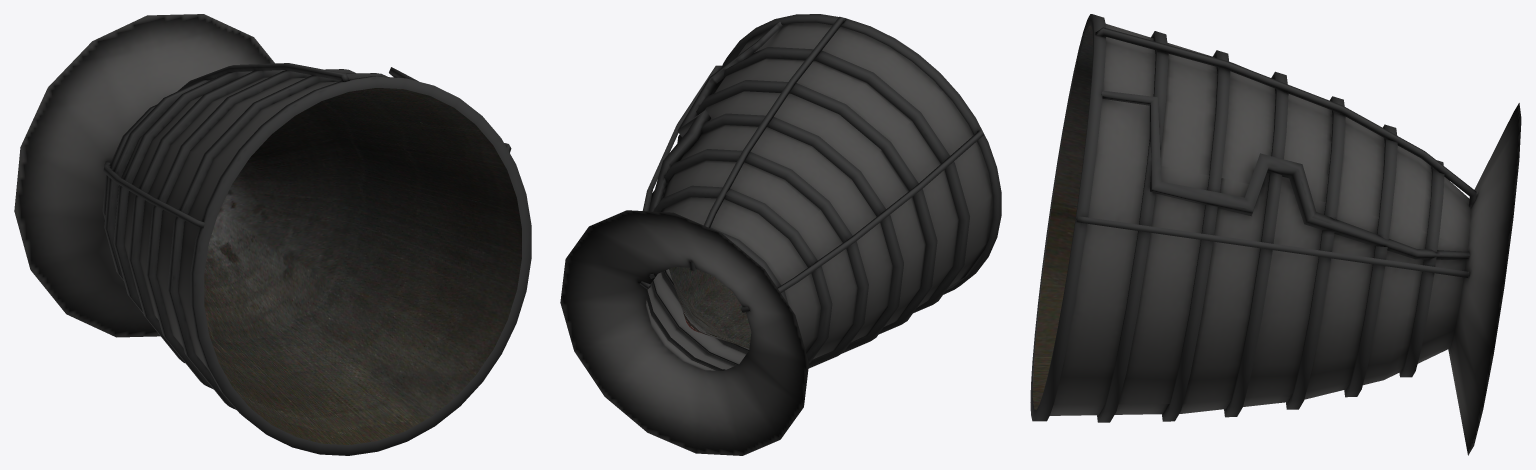
File: mainEngine.fbx
3 renders of one model, left to right at view 1: azimuth 30°, elevation 25°; view 2: azimuth 150°, elevation 25°; view 3: azimuth 270°, elevation 25°, orthographic. The views are drawn at different scales.
Parts seen in each view (by area): view 1: Nozzle IN, Nozzle OUT; view 2: Nozzle OUT, Nozzle IN; view 3: Nozzle OUT, Nozzle IN.
Part boxes in pixels (box(x1,y1,x2,y2)): Nozzle IN: box(204, 88, 521, 444); Nozzle OUT: box(14, 14, 531, 455); Nozzle OUT: box(560, 14, 1001, 455); Nozzle IN: box(669, 267, 751, 348); Nozzle OUT: box(1030, 14, 1521, 455); Nozzle IN: box(1032, 25, 1092, 409).
Bounding box in the file's own units: 9.86 × 10.82 × 11.73.
